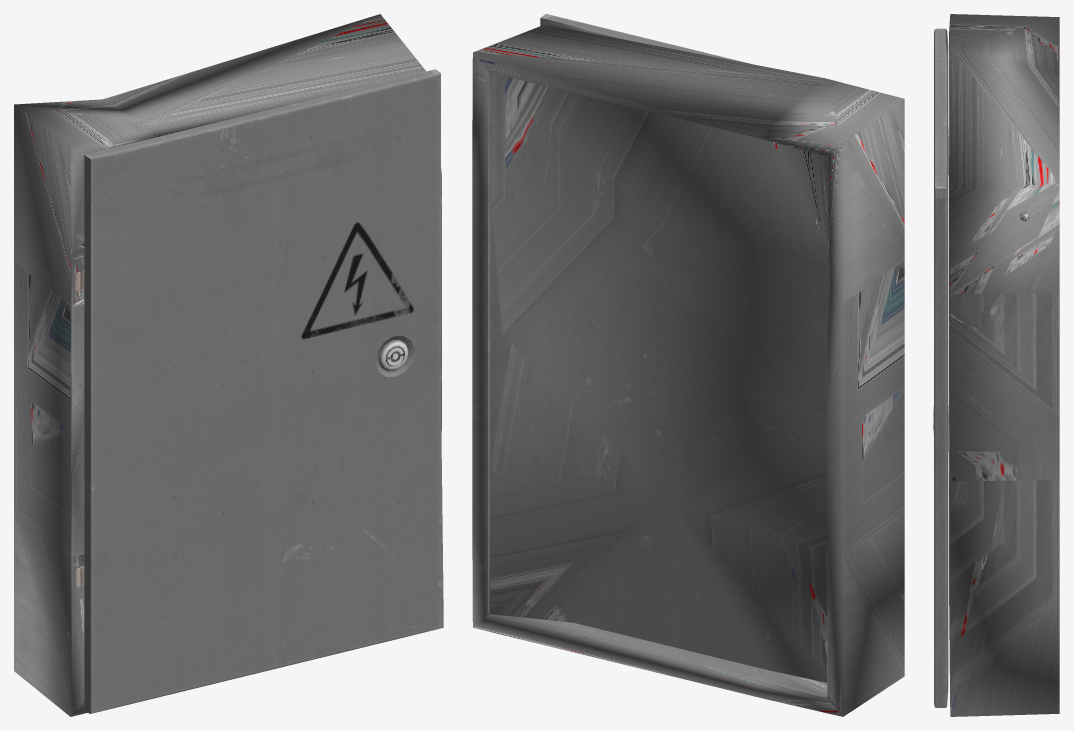
File: power_box_01_2k.gltf
3 views of the same model, side by side, from view 1: azimuth 30°, elevation 25°; view 2: azimuth 150°, elevation 25°; view 3: azimuth 270°, elevation 25° (orthographic). The views are drawn at different scales.
Visible parts, largest first — view 1: power_box_01_door, power_box_01_box; view 2: power_box_01_box, power_box_01_door; view 3: power_box_01_box, power_box_01_door.
Boxes of the visible parts, left/top/right/bottom form: power_box_01_door: left=75, top=69, right=443, bottom=713; power_box_01_box: left=14, top=14, right=441, bottom=716; power_box_01_box: left=472, top=24, right=904, bottom=716; power_box_01_door: left=540, top=14, right=750, bottom=63; power_box_01_box: left=949, top=14, right=1059, bottom=716; power_box_01_door: left=933, top=28, right=949, bottom=707.
Bounding box in the file's own units: 0.3455 × 0.5031 × 0.1078.
Materials: 1 (1 with a texture image).
